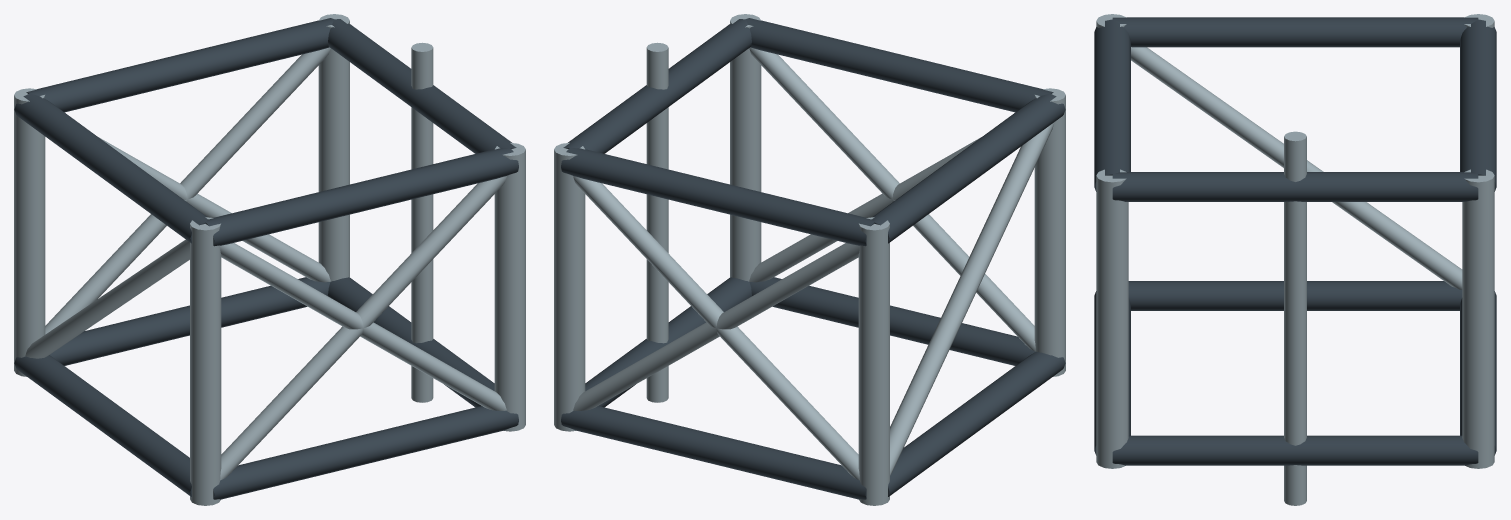
Rendered from truss.glb.
3 views of the same model, side by side, from view 1: azimuth 30°, elevation 25°; view 2: azimuth 150°, elevation 25°; view 3: azimuth 270°, elevation 25° (orthographic). The views are drawn at different scales.
Visible parts, largest first — view 1: Cross member.005, Cross member.001, Longeron.001, Cross member.004, Longeron.003, Diagonal brace.002, Longeron, Diagonal brace, Cross member.006, Cross member, Cross member.002, Longeron.002 (+6 smaller); view 2: Cross member.004, Cross member, Longeron, Cross member.005, Longeron.002, Diagonal brace, Diagonal brace.004, Longeron.001, Diagonal brace.002, Cross member.006, Cross member.002, Longeron.003 (+6 smaller); view 3: Cross member.003, Cross member.007, Cross member.006, Cross member.002, Longeron.002, Longeron.003, Diagonal brace.005, Diagonal brace.004, Cross member.004, Cross member.005, Cross member, Cross member.001.
Part boxes in pixels (<box>): Cross member.005: <box>205,148,518,246</box>; Cross member.001: <box>213,406,518,499</box>; Longeron.001: <box>190,217,221,505</box>; Cross member.004: <box>26,18,334,112</box>; Longeron.003: <box>494,142,525,431</box>; Diagonal brace.002: <box>220,176,506,480</box>; Longeron: <box>14,88,45,376</box>; Diagonal brace: <box>45,47,330,334</box>; Cross member.006: <box>14,93,207,243</box>; Cross member: <box>50,277,330,365</box>; Cross member.002: <box>14,355,191,496</box>; Longeron.002: <box>318,14,349,281</box>; Cross member.004: <box>561,148,874,246</box>; Cross member: <box>561,406,866,499</box>; Longeron: <box>858,217,889,505</box>; Cross member.005: <box>745,18,1053,112</box>; Longeron.002: <box>554,142,585,431</box>; Diagonal brace: <box>573,176,859,480</box>; Diagonal brace.004: <box>890,122,1054,475</box>; Longeron.001: <box>1034,88,1065,376</box>; Diagonal brace.002: <box>749,47,1035,351</box>; Cross member.006: <box>872,93,1065,243</box>; Cross member.002: <box>888,351,1065,496</box>; Longeron.003: <box>730,14,761,281</box>; Cross member.003: <box>1112,435,1478,465</box>; Cross member.007: <box>1112,172,1478,201</box>; Cross member.006: <box>1112,17,1478,47</box>; Cross member.002: <box>1128,281,1462,310</box>; Longeron.002: <box>1462,169,1494,468</box>; Longeron.003: <box>1096,169,1128,468</box>; Diagonal brace.005: <box>1284,131,1306,505</box>; Diagonal brace.004: <box>1131,47,1462,289</box>; Cross member.004: <box>1460,19,1496,191</box>; Cross member.005: <box>1094,19,1130,191</box>; Cross member: <box>1460,291,1496,455</box>; Cross member.001: <box>1094,291,1130,455</box>.
Bounding box in the file's own units: 1 × 1 × 1.
